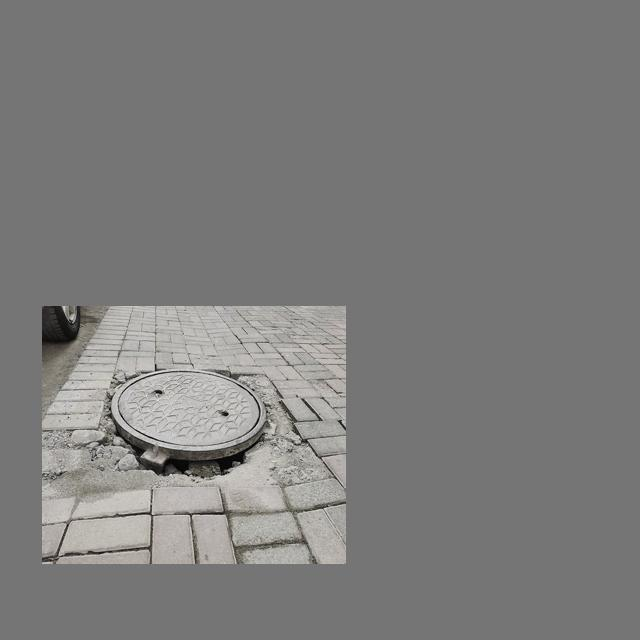circle: (82, 361, 324, 502)
